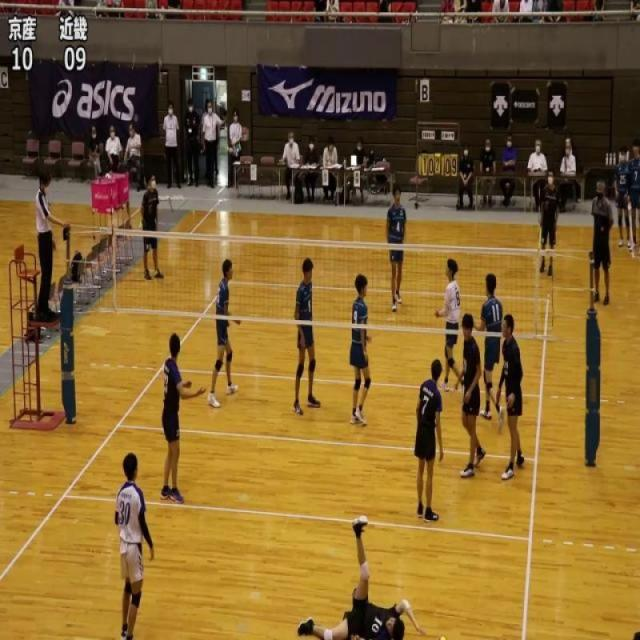volleyball: (434, 632, 448, 640)
